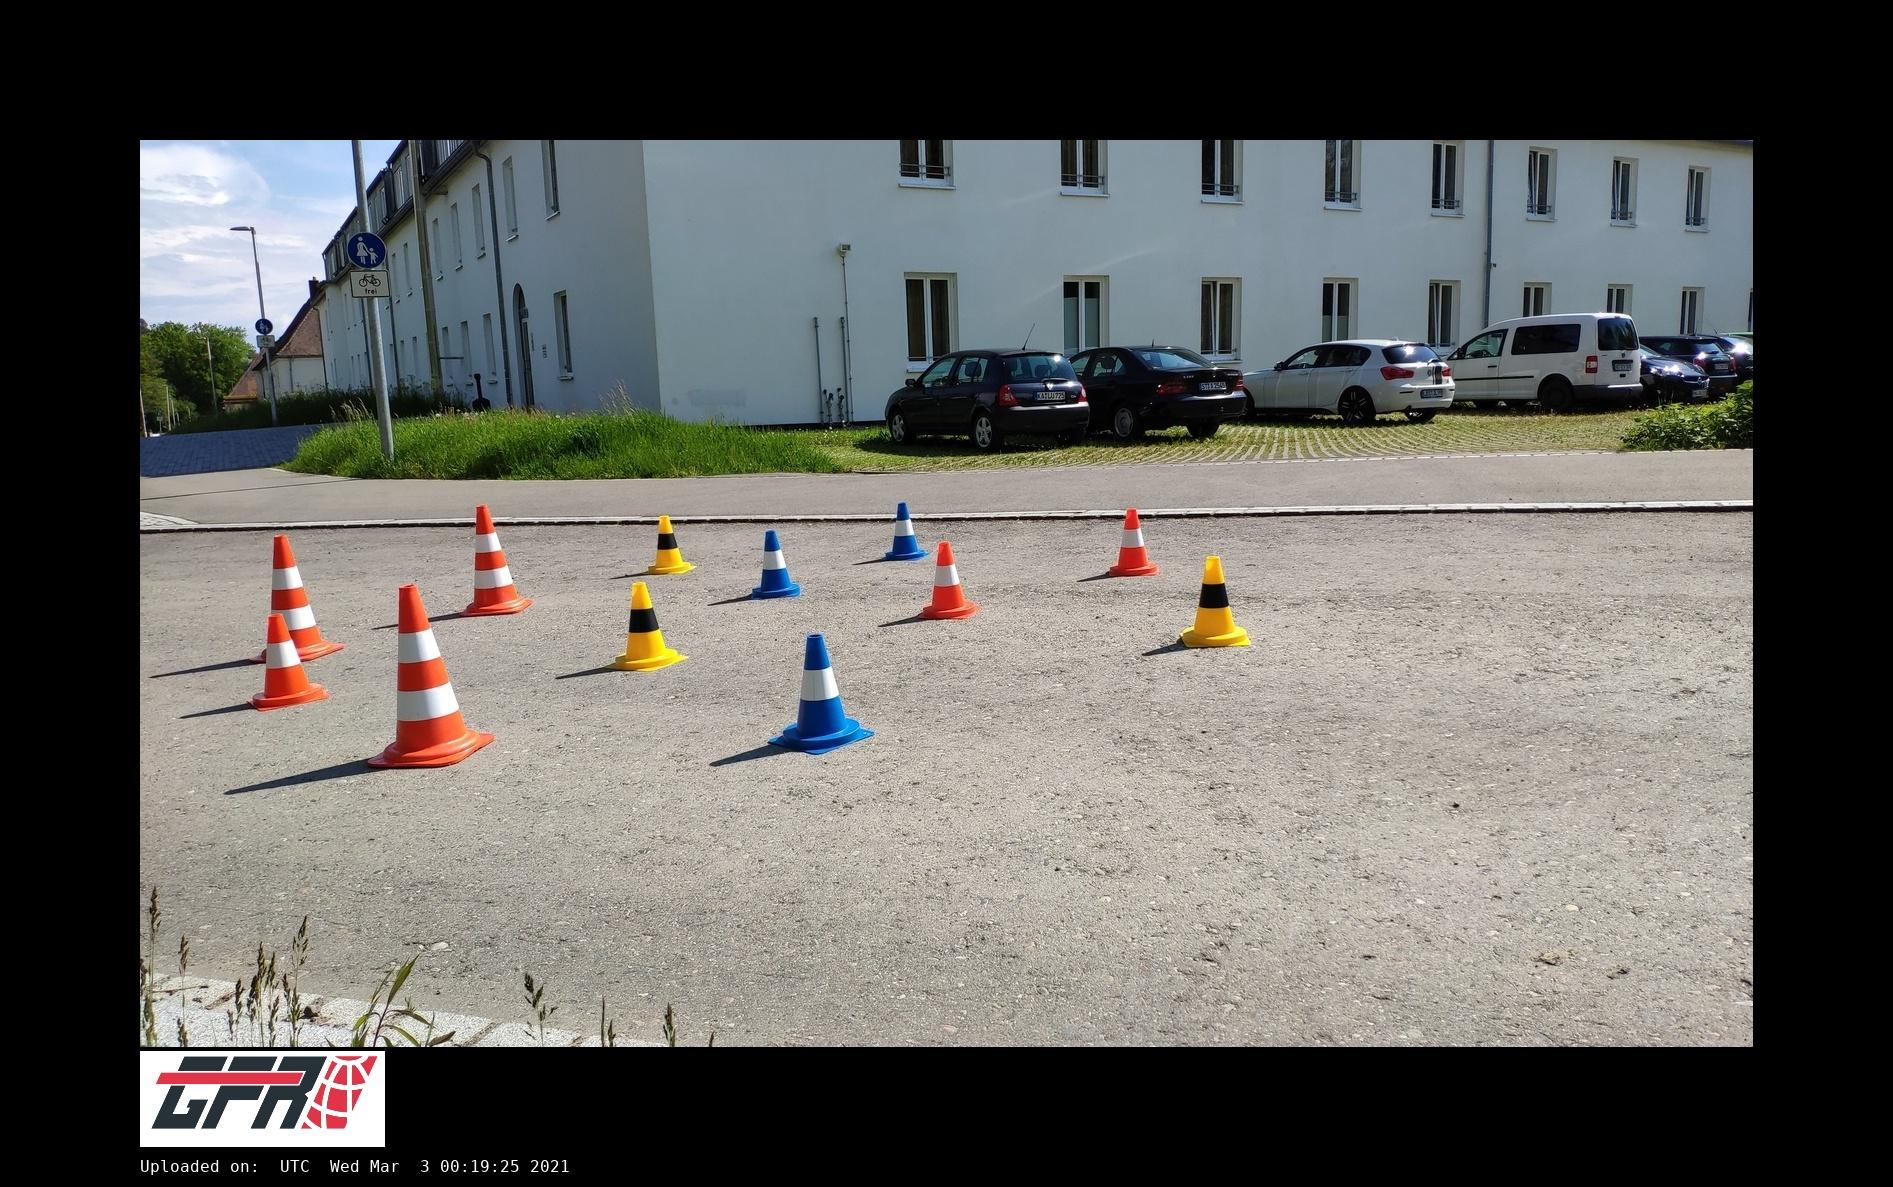blue_cone: (768, 635, 873, 755), (750, 531, 800, 599), (884, 503, 927, 561)
large_orange_cone: (368, 585, 493, 766), (249, 533, 343, 662), (458, 505, 532, 615)
orange_cone: (247, 614, 328, 712), (918, 542, 980, 619), (1108, 507, 1158, 576)
yellow_cone: (605, 581, 687, 671), (1180, 557, 1249, 647), (642, 516, 697, 574)
